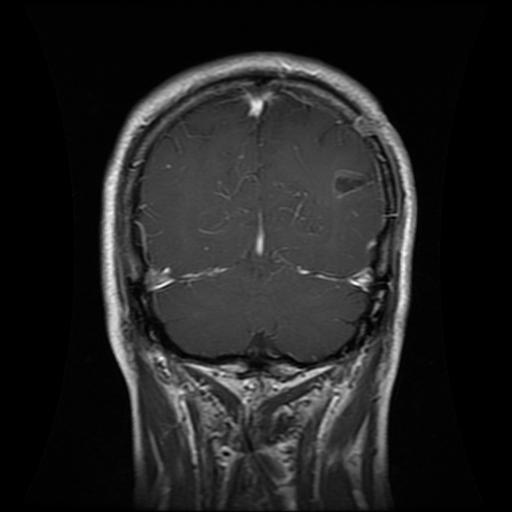Gliomia_tumour: (328, 167, 373, 198)
